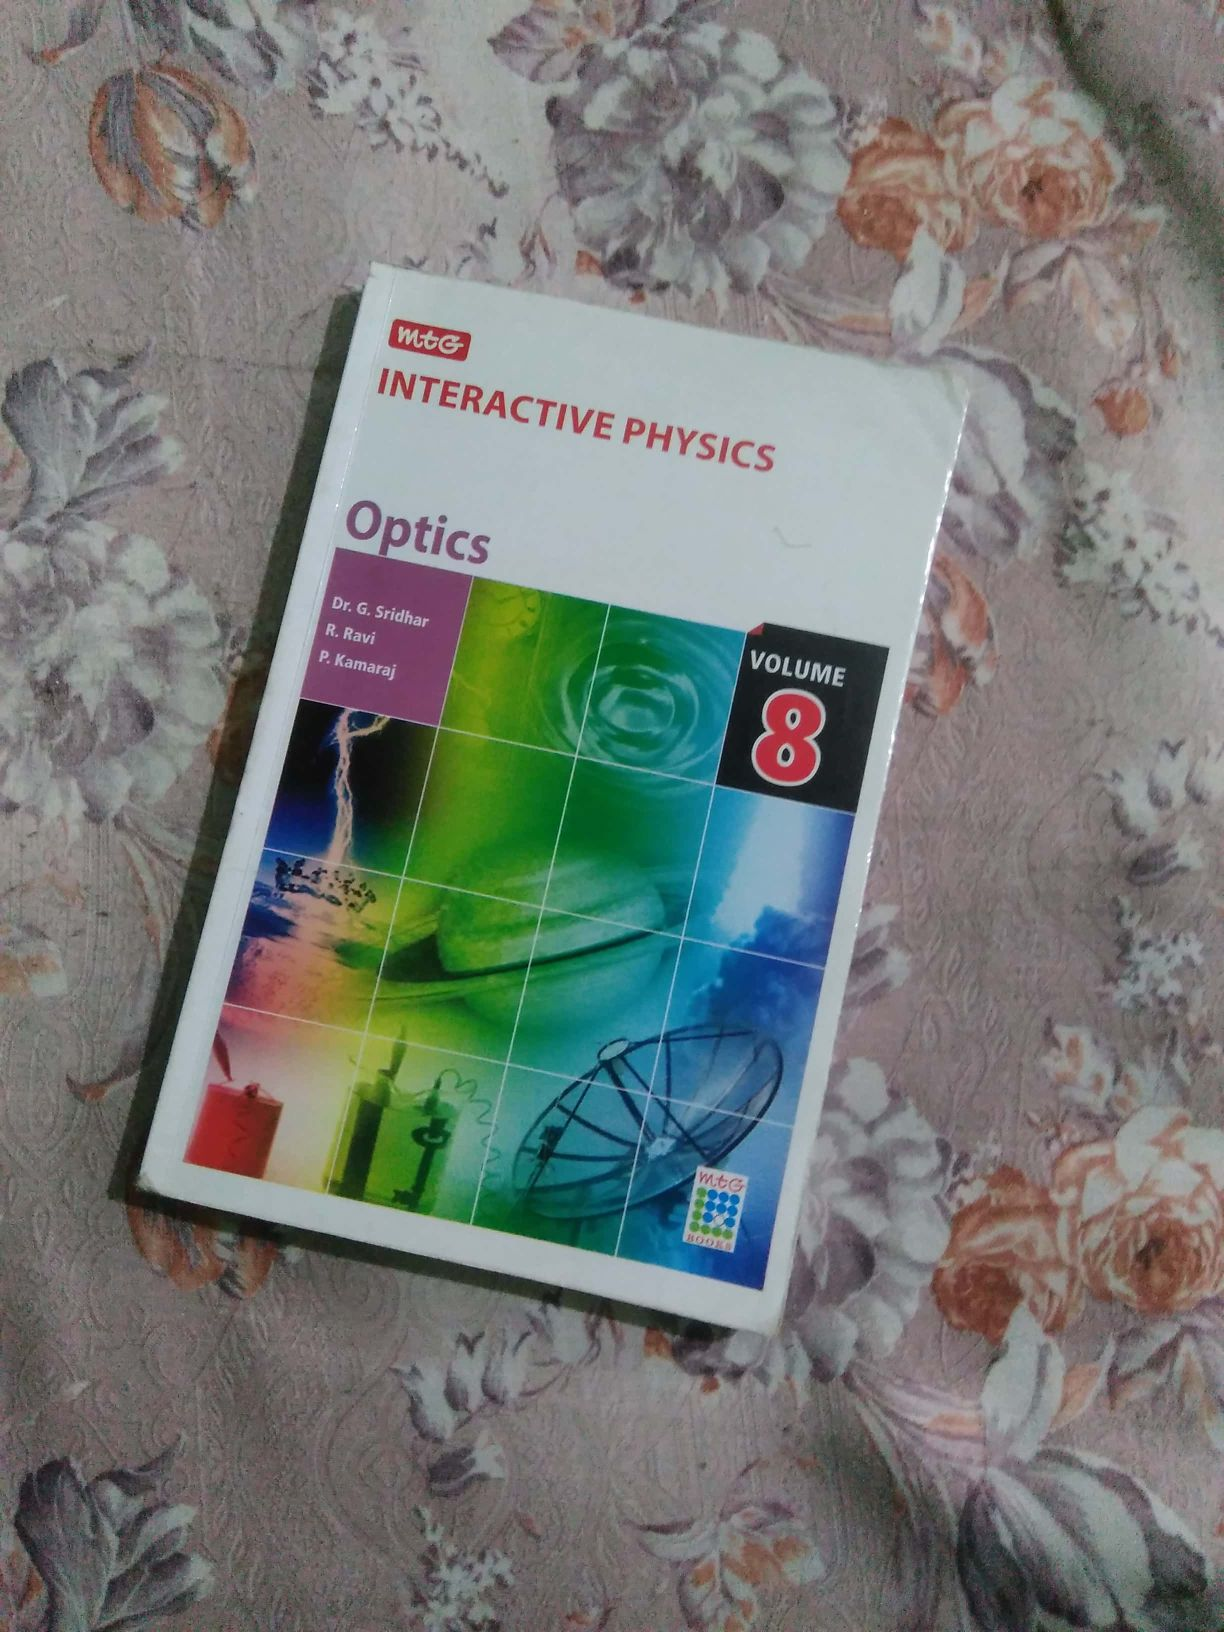optics: (181, 260, 930, 1329)
